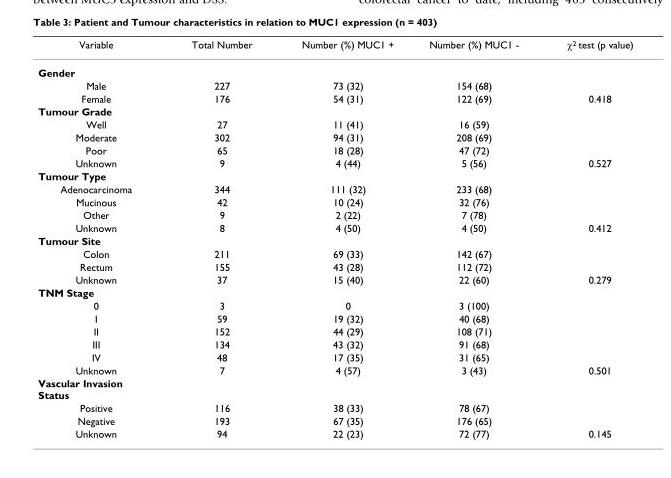table: (37, 37, 632, 439)
table column: (276, 37, 410, 439), (410, 37, 542, 439), (37, 37, 161, 439), (161, 37, 276, 439), (542, 37, 632, 439)
table column header: (37, 37, 632, 58)
table projected row header: (37, 376, 632, 400), (37, 58, 632, 78), (37, 104, 632, 117), (37, 169, 632, 182), (37, 233, 632, 246), (37, 285, 632, 298)
table row: (37, 376, 632, 400), (37, 37, 632, 58), (37, 58, 632, 78), (37, 78, 632, 91), (37, 91, 632, 104), (37, 104, 632, 117), (37, 117, 632, 130), (37, 130, 632, 143), (37, 143, 632, 156), (37, 156, 632, 169), (37, 169, 632, 182), (37, 182, 632, 195), (37, 195, 632, 208), (37, 208, 632, 221), (37, 233, 632, 246), (37, 246, 632, 259), (37, 259, 632, 272), (37, 272, 632, 285), (37, 285, 632, 298), (37, 298, 632, 311), (37, 311, 632, 324), (37, 324, 632, 337), (37, 337, 632, 350), (37, 350, 632, 363), (37, 363, 632, 376), (37, 400, 632, 413), (37, 413, 632, 426), (37, 426, 632, 439), (37, 221, 632, 233)
